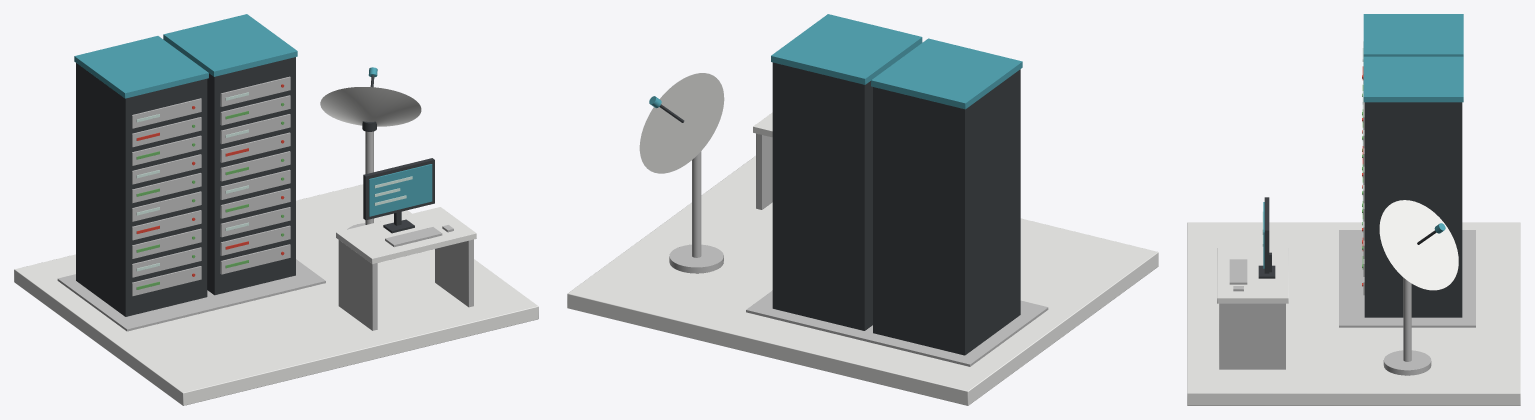
The picture shows the model from 3 angles, left to right: view 1: azimuth 30°, elevation 25°; view 2: azimuth 150°, elevation 25°; view 3: azimuth 270°, elevation 25°; orthographic projection. The views are drawn at different scales.
Parts seen in each view (by area): view 1: plaza.005, rack0, rack1, rack0_top, rack1_top, floor_tiles, desk_top, dish, desk_side-1, mon_screen, desk_side1, mon_body (+21 smaller); view 2: plaza.005, rack0, rack1, rack0_top, rack1_top, dish, floor_tiles, dish_base, desk_side1, dish_pole; view 3: plaza.005, rack1, dish, floor_tiles, rack1_top, desk_side1, rack0_top, desk_top, dish_base, dish_pole, keyboard, mon_body.
Boxes of the visible parts, x1,y1,x2,y2 form: plaza.005: (14, 184, 538, 405); rack0: (76, 63, 207, 316); rack1: (207, 57, 295, 295); rack0_top: (74, 36, 208, 98); rack1_top: (163, 14, 297, 76); floor_tiles: (57, 259, 325, 331); desk_top: (336, 207, 476, 264); dish: (320, 87, 421, 126); desk_side-1: (338, 240, 377, 330); mon_screen: (369, 164, 432, 216); desk_side1: (435, 239, 473, 307); mon_body: (363, 158, 434, 220); plaza.005: (567, 156, 1158, 405); rack0: (873, 69, 1020, 355); rack1: (772, 62, 872, 330); rack0_top: (871, 38, 1022, 109); rack1_top: (771, 14, 922, 84); dish: (639, 73, 724, 173); floor_tiles: (746, 290, 1048, 366); dish_base: (669, 244, 723, 273); desk_side1: (756, 133, 772, 209); dish_pole: (692, 151, 701, 257); plaza.005: (1187, 222, 1520, 405); rack1: (1364, 102, 1462, 317); dish: (1379, 200, 1458, 290); floor_tiles: (1339, 230, 1475, 327); rack1_top: (1363, 56, 1463, 102); desk_side1: (1219, 303, 1285, 369); rack0_top: (1363, 14, 1463, 56); desk_top: (1217, 248, 1288, 303); dish_base: (1383, 350, 1431, 375); dish_pole: (1403, 277, 1411, 361); keyboard: (1229, 259, 1247, 284); mon_body: (1264, 197, 1269, 273).
Size of the model in its own units: 3.4 by 2.19 by 2.8.
